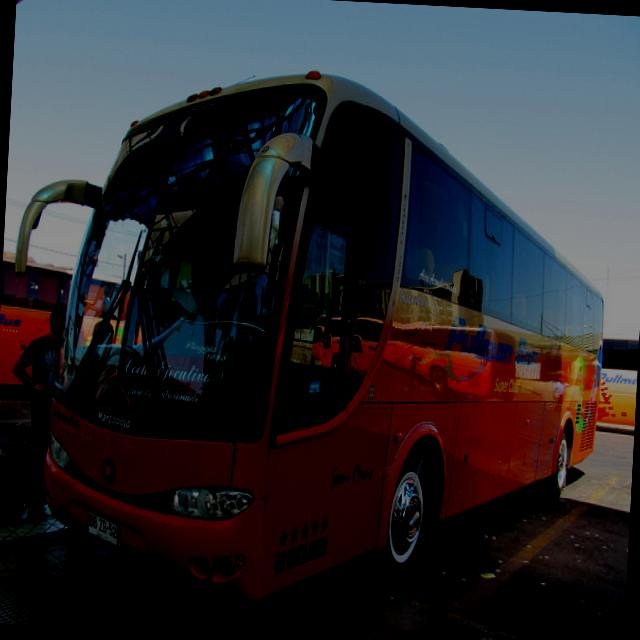Vehicle: (0, 59, 615, 625), (0, 249, 76, 398), (596, 332, 640, 435)
